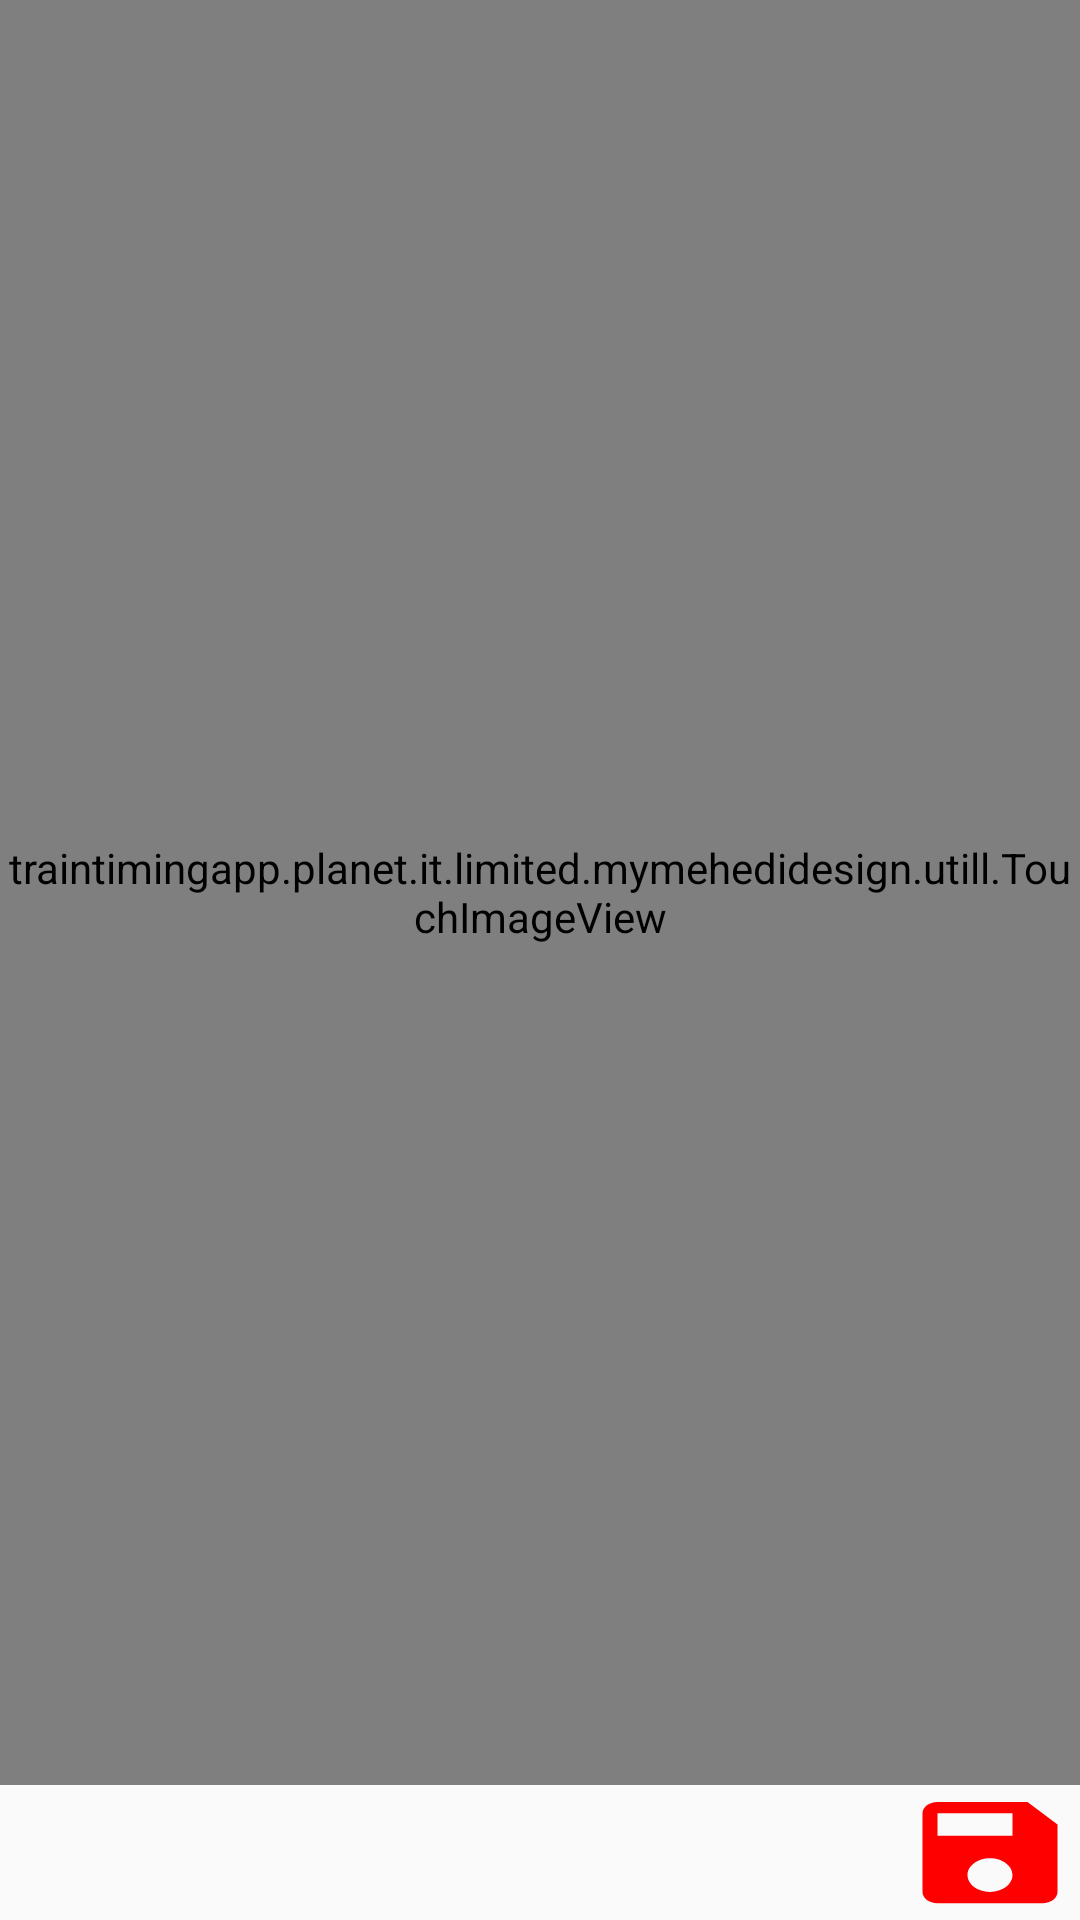

Point at icon controls on the screen. Image size 1080*1920, points as point (x, y).
save: point (990, 1853)
